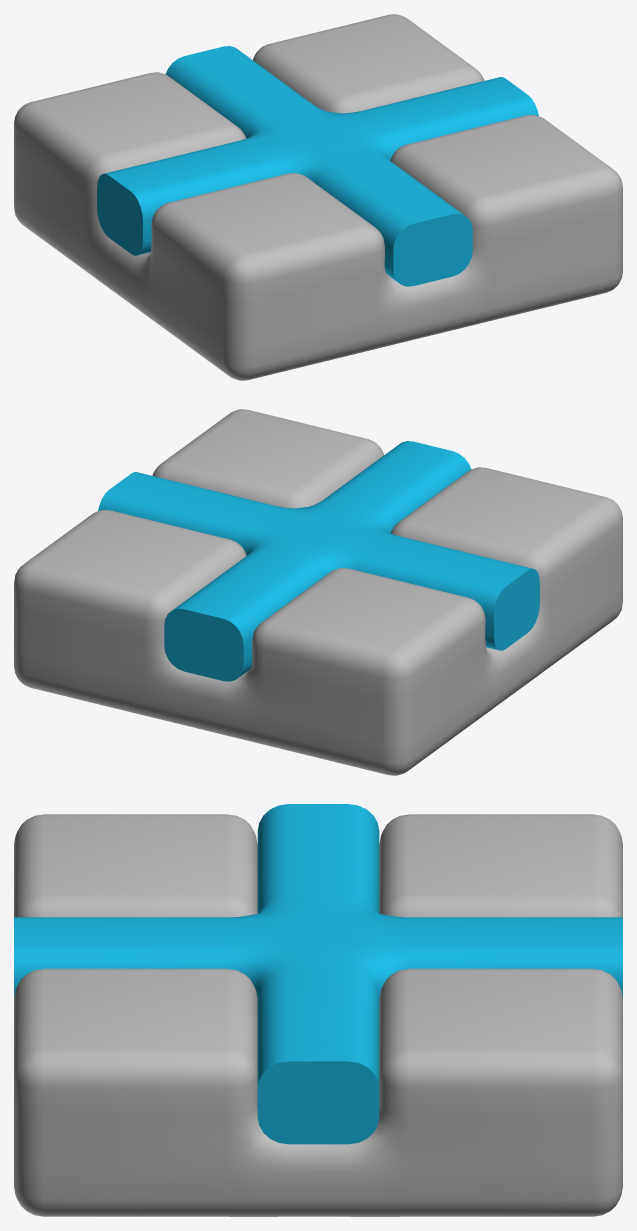
File: Piso 4.fbx
3 views of the same model, one above another, from view 1: azimuth 30°, elevation 25°; view 2: azimuth 150°, elevation 25°; view 3: azimuth 270°, elevation 25° (orthographic). The views are drawn at different scales.
Visible parts, largest first — view 1: Piso 4; view 2: Piso 4; view 3: Piso 4.
Part boxes in pixels (x1=…): Piso 4: x1=14, y1=14, x2=622, y2=380; Piso 4: x1=14, y1=409, x2=622, y2=775; Piso 4: x1=14, y1=804, x2=622, y2=1216.
Size of the model in its own units: 200 by 60 by 200.
